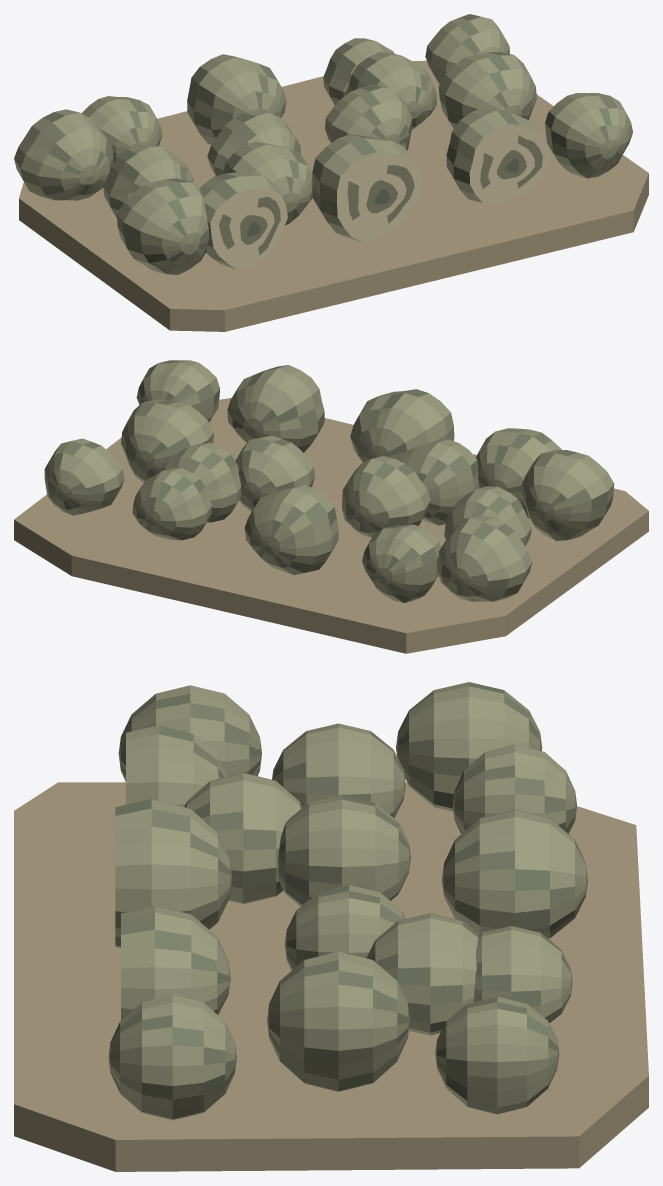
3 views of the same model, one above another, from view 1: azimuth 30°, elevation 25°; view 2: azimuth 150°, elevation 25°; view 3: azimuth 270°, elevation 25° (orthographic). The views are drawn at different scales.
Visible parts, largest first — view 1: sixteen-separated-oncoids-and-quiet-contact-bed; view 2: sixteen-separated-oncoids-and-quiet-contact-bed; view 3: sixteen-separated-oncoids-and-quiet-contact-bed.
Part boxes in pixels (x1,y1,x2,y2): sixteen-separated-oncoids-and-quiet-contact-bed: (14,14,648,331); sixteen-separated-oncoids-and-quiet-contact-bed: (14,360,648,653); sixteen-separated-oncoids-and-quiet-contact-bed: (14,682,648,1171).
Bounding box in the file's own units: 0.2448 × 0.0526 × 0.18.
